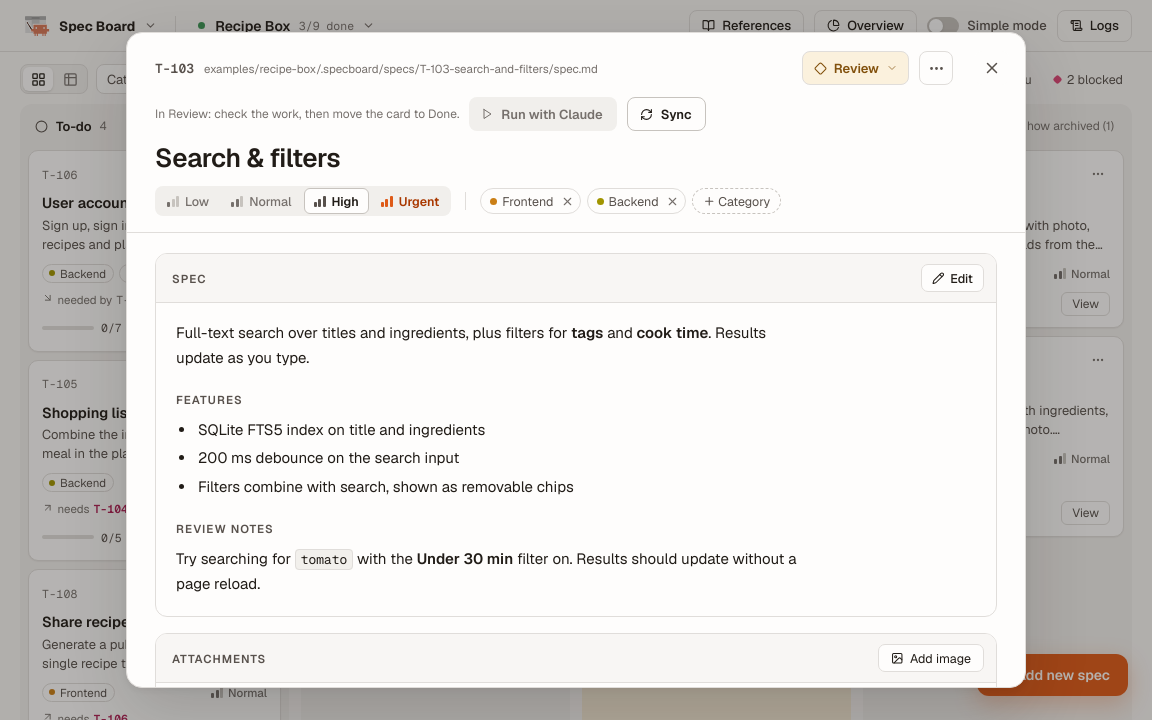
it: App › the status menu in the detail moves through the board action
Note: The status menu is a Radix menu: it opens on pointerdown and renders in a portal.
Click the button "Review".
click(855, 68)  # box [802, 51, 909, 85]
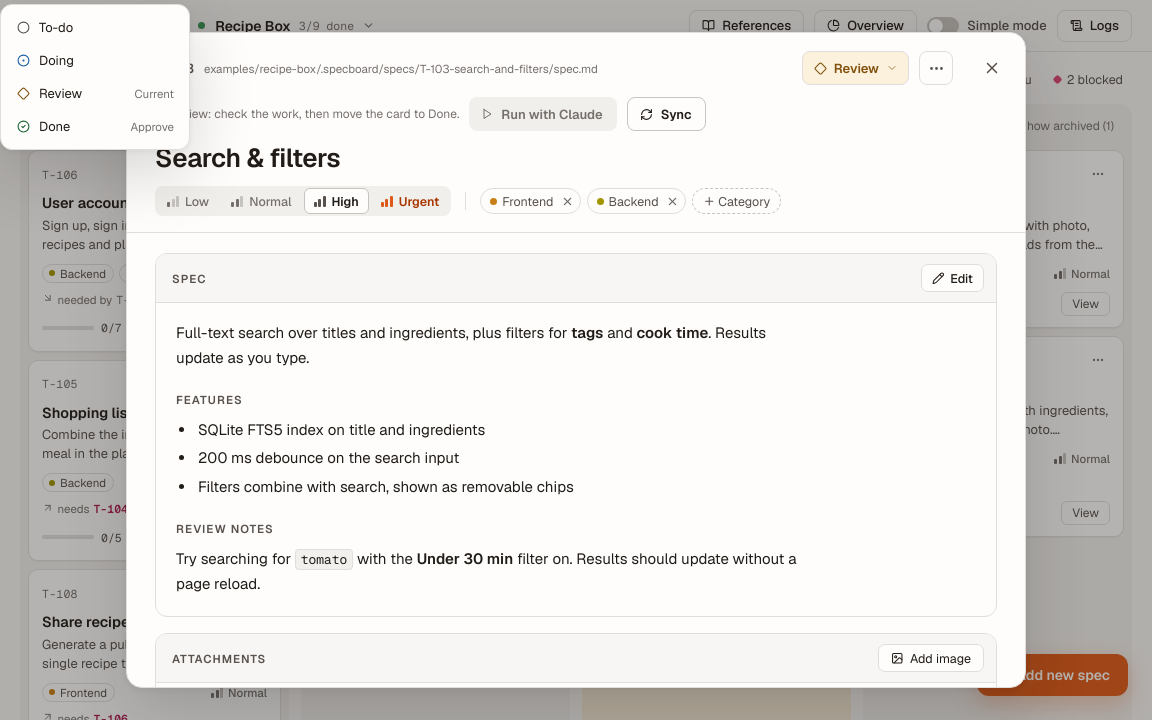
Click the menu item "Done Approve".
click(55, 126)  # box [16, 118, 174, 135]
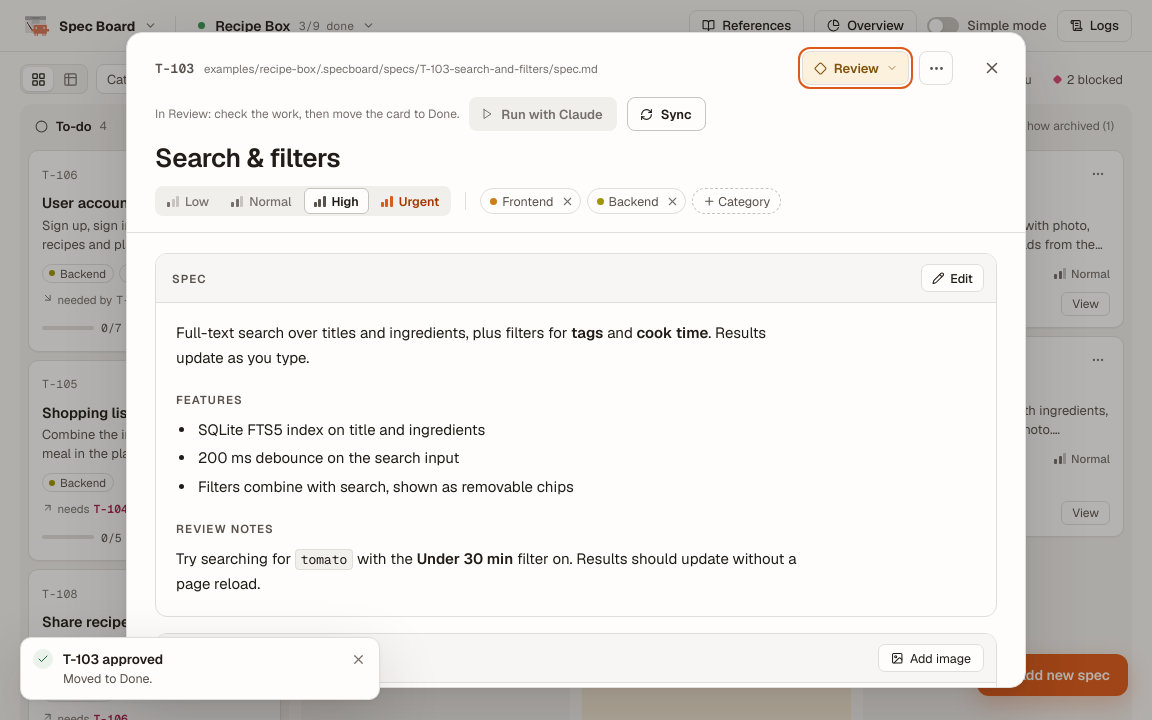
Expected: the text "T-103 approved" is shown, [63, 650, 163, 668]
